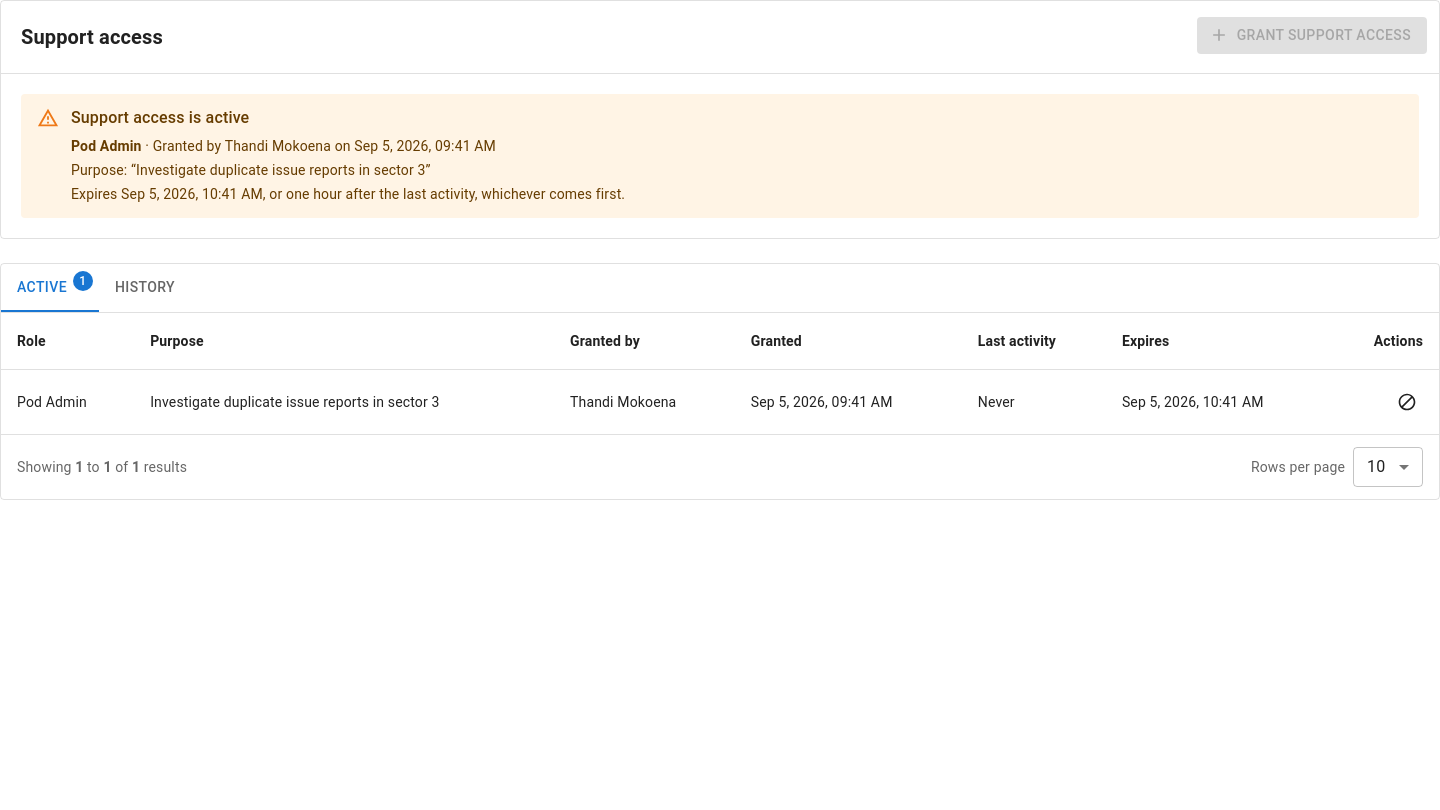
Test: SupportAccessSection › should close the dialog and show the grant_not_active alert when the revoke conflicts
Click the button named "revoke": (1407, 402) [1391,386,1423,418]
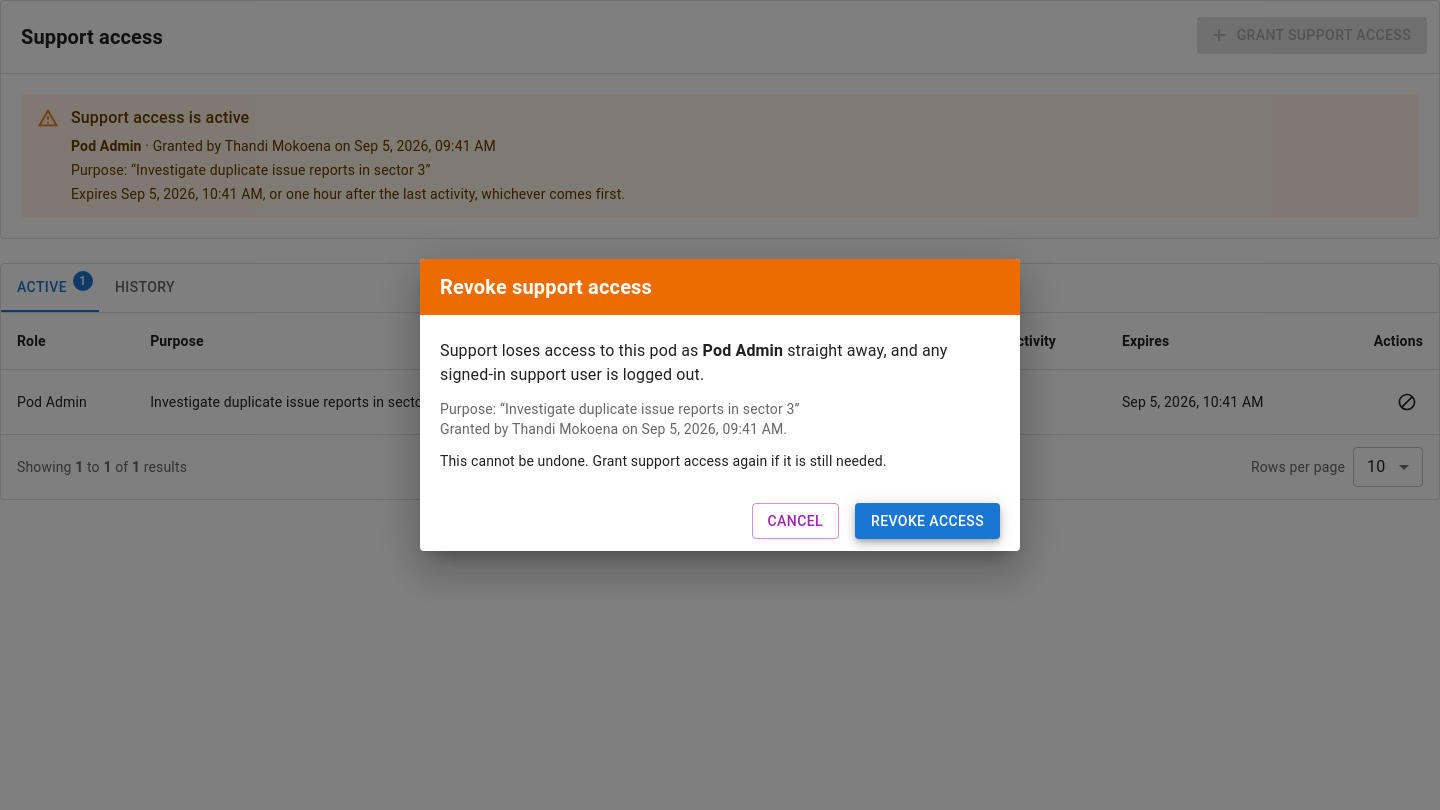
Click the button "Revoke access": (928, 521) [855,503,1000,539]
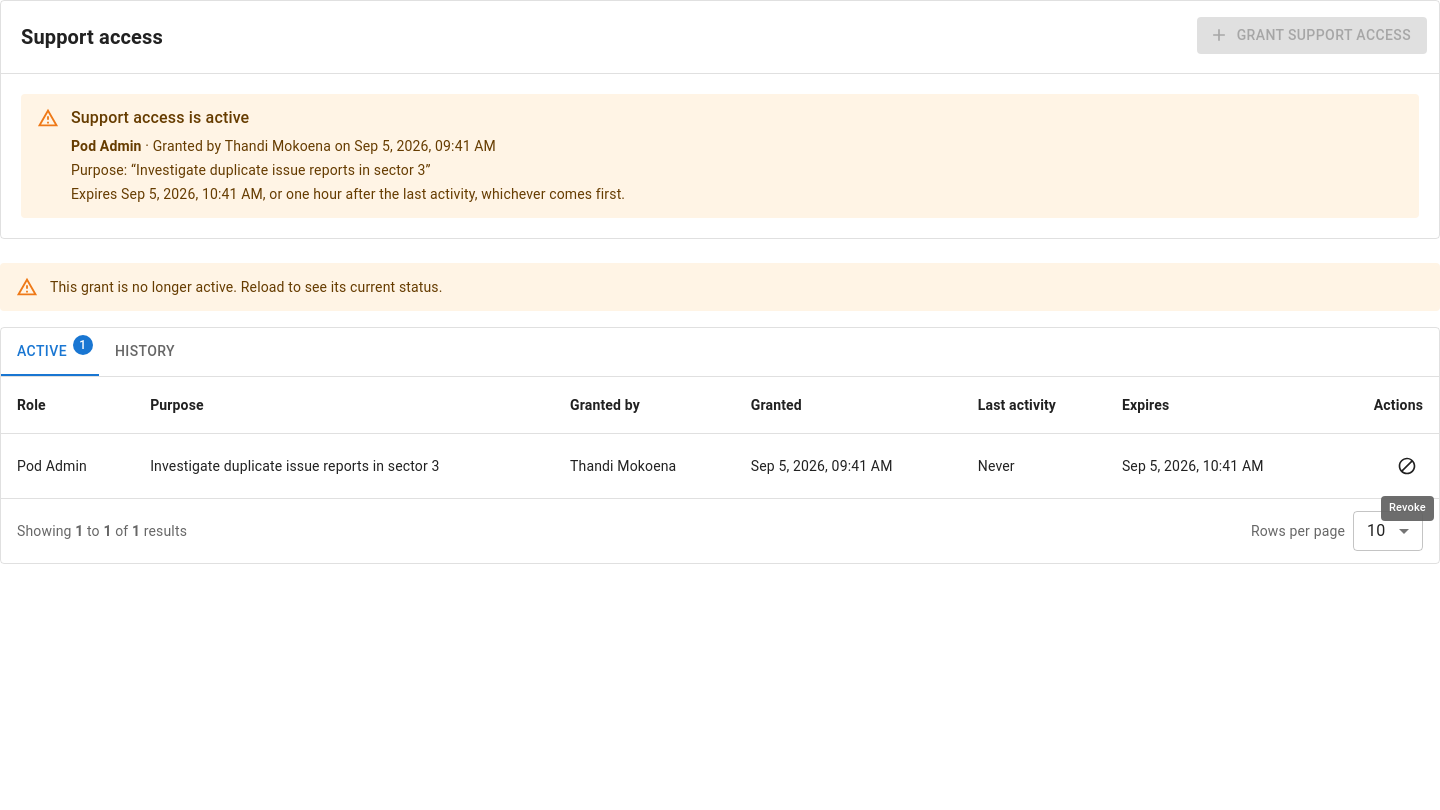
Expected: the dialog is gone
Expected: the text "no longer active" is shown, [50,279,443,295]
